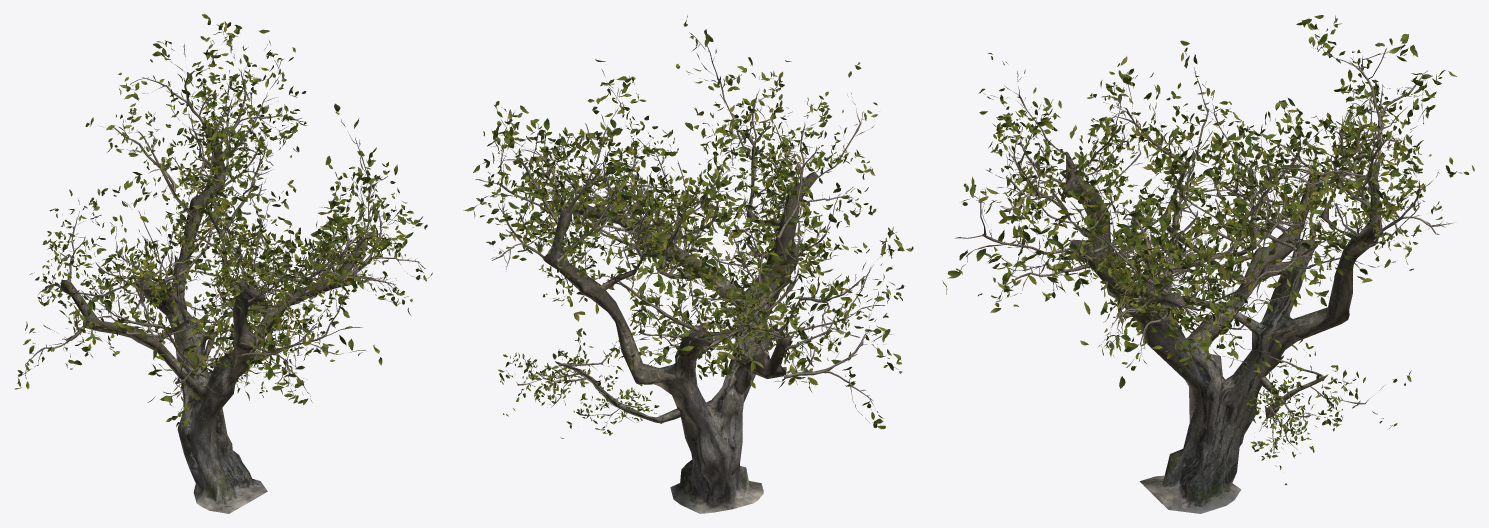
Rendered from tree_a.glb.
3 views of the same model, side by side, from view 1: azimuth 30°, elevation 25°; view 2: azimuth 150°, elevation 25°; view 3: azimuth 270°, elevation 25° (orthographic). The views are drawn at different scales.
Visible parts, largest first — view 1: island_tree_01_LOD0; view 2: island_tree_01_LOD0; view 3: island_tree_01_LOD0.
Boxes of the visible parts, left/top/right/bottom form: island_tree_01_LOD0: left=15, top=14, right=432, bottom=513; island_tree_01_LOD0: left=463, top=15, right=913, bottom=513; island_tree_01_LOD0: left=942, top=15, right=1474, bottom=513.
Bounding box in the file's own units: 4.65 × 5 × 4.72.
3 materials, 3 textured.
